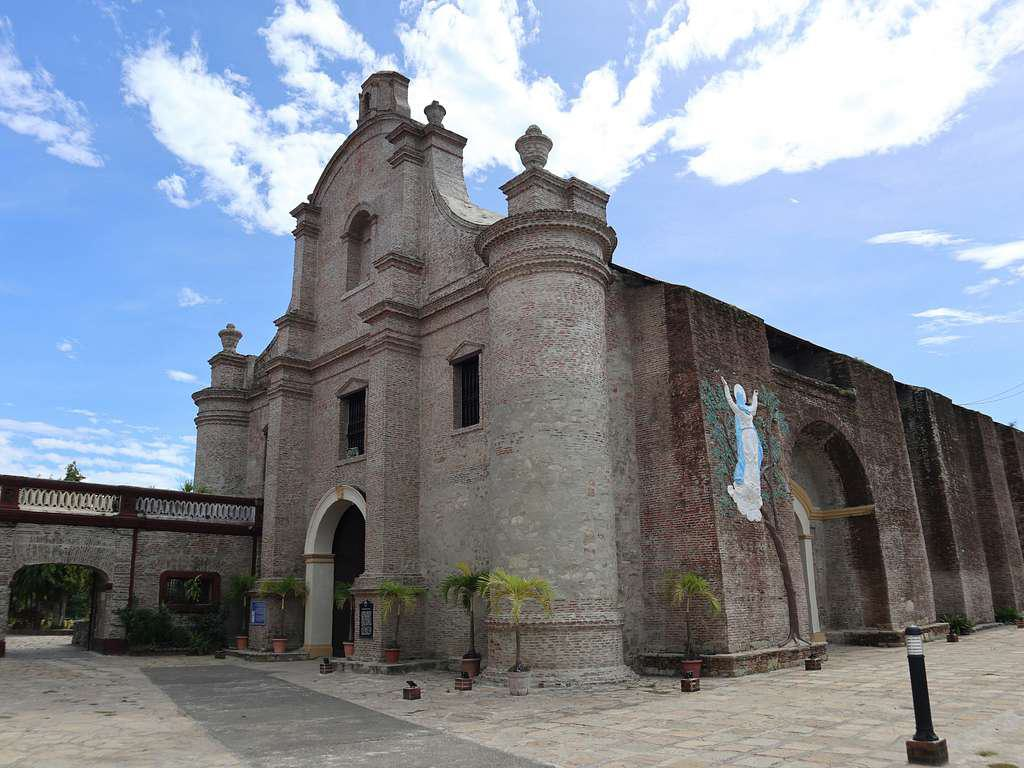Sta. Maria Church: (193, 62, 611, 707)
